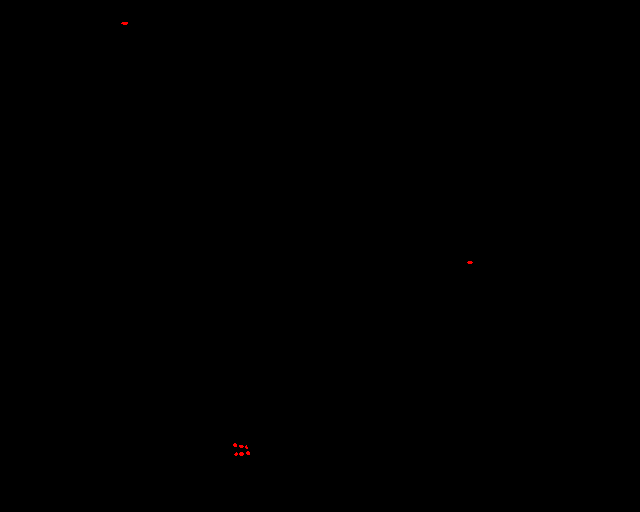Target: (121, 22, 128, 25), (239, 452, 244, 456), (467, 261, 473, 264), (233, 443, 237, 447), (246, 451, 250, 455), (234, 452, 238, 456), (239, 445, 244, 448), (245, 445, 248, 449)
